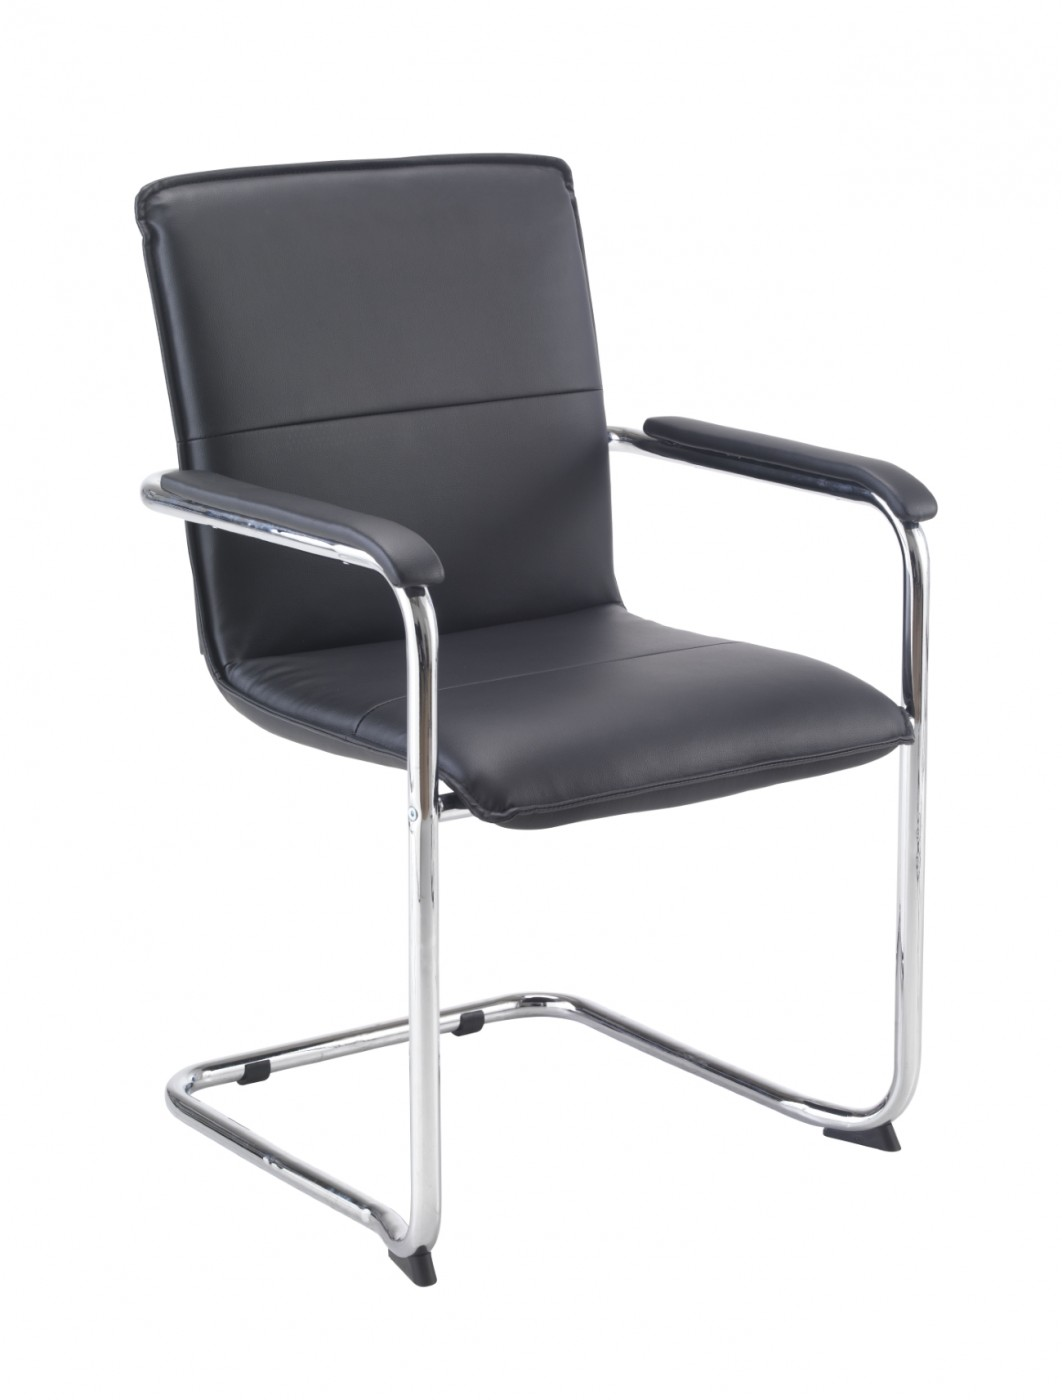chairs: (85, 119, 954, 1314)
